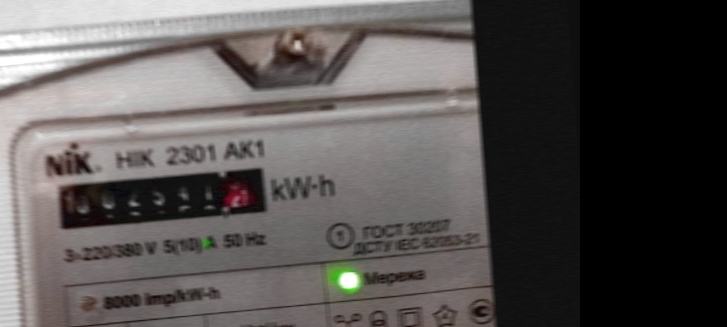0: (70, 187, 90, 214), (98, 182, 114, 210)
1: (197, 173, 212, 201)
2: (122, 180, 140, 206)
4: (174, 176, 188, 200)
5: (147, 177, 167, 207)
6: (226, 188, 242, 207)
screen: (43, 151, 280, 239)
